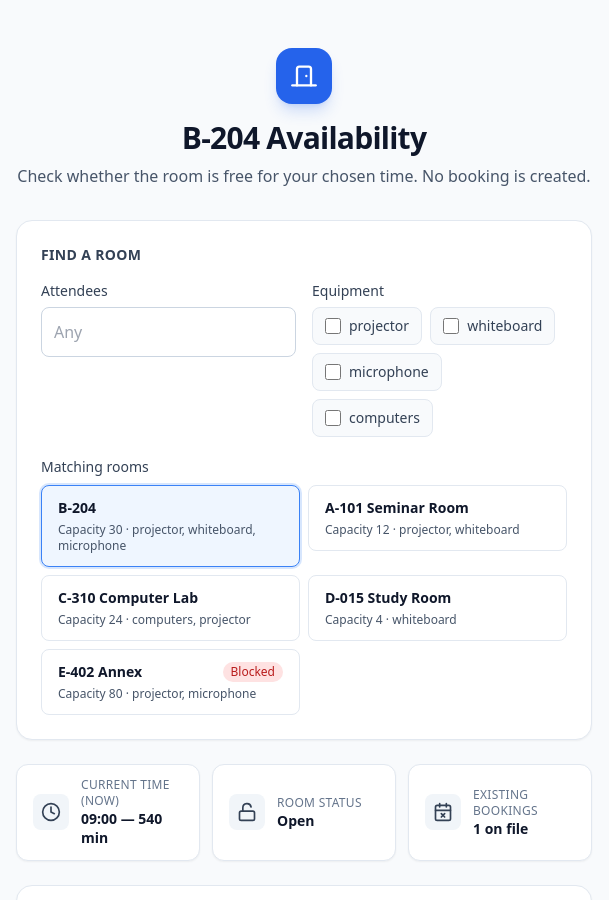
Test: UI integration › F3: a blocked room is reported unavailable in the UI
This screenshot has width=609, height=900.
Type "80" into the number field labelled "Attendees" at coordinates (168, 332), box [41, 307, 296, 357]
(page scrolled)
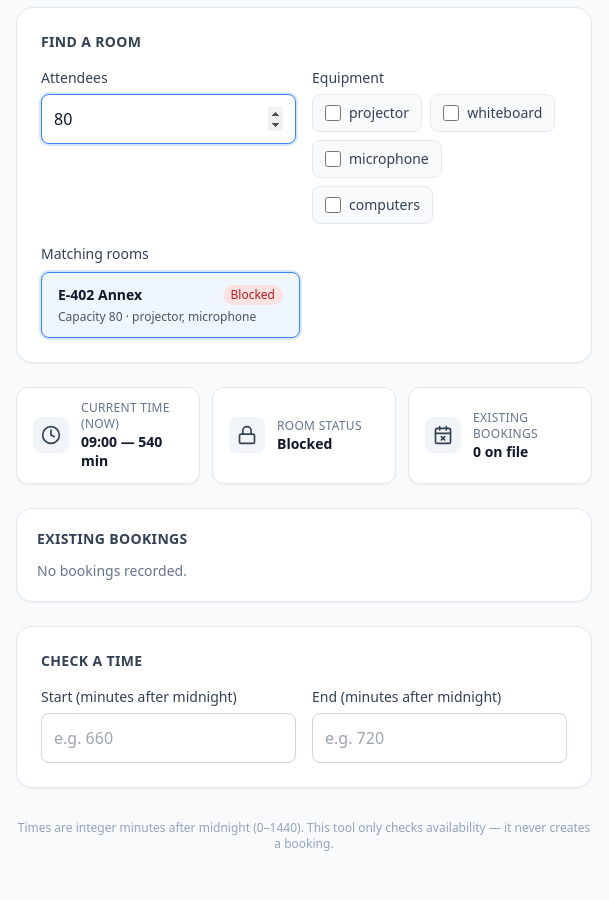
Type "700" into the number field labelled "Start (minutes after midnight)" at coordinates (168, 738), box [41, 712, 296, 762]
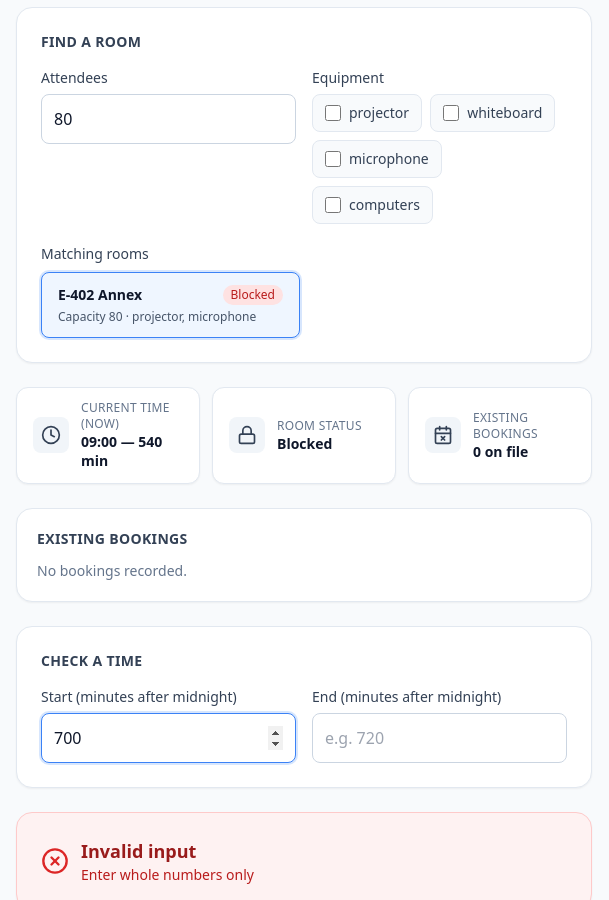
Type "760" into the number field labelled "End (minutes after midnight)" at coordinates (440, 738), box [312, 712, 567, 762]
(page scrolled)
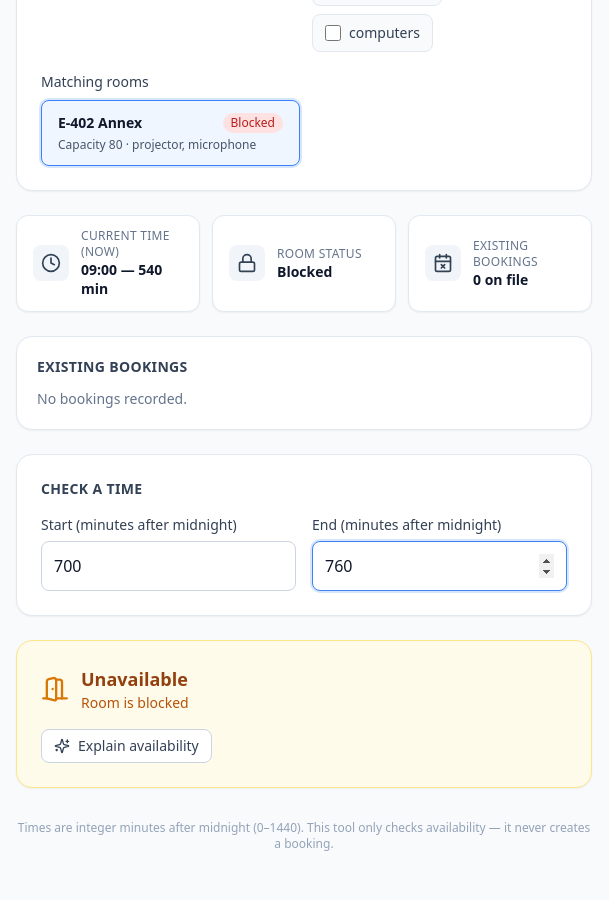
Expected: the element with test id "result" shows "blocked", [81, 692, 189, 712]
